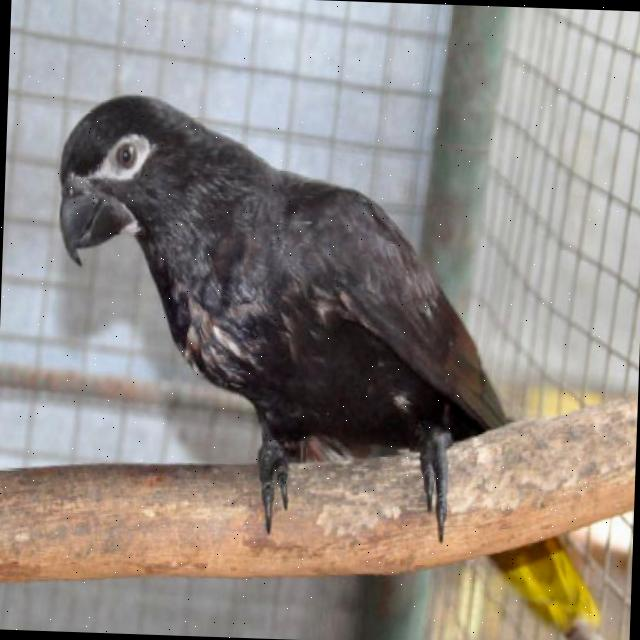Nuri Hitam: (21, 75, 639, 640)
